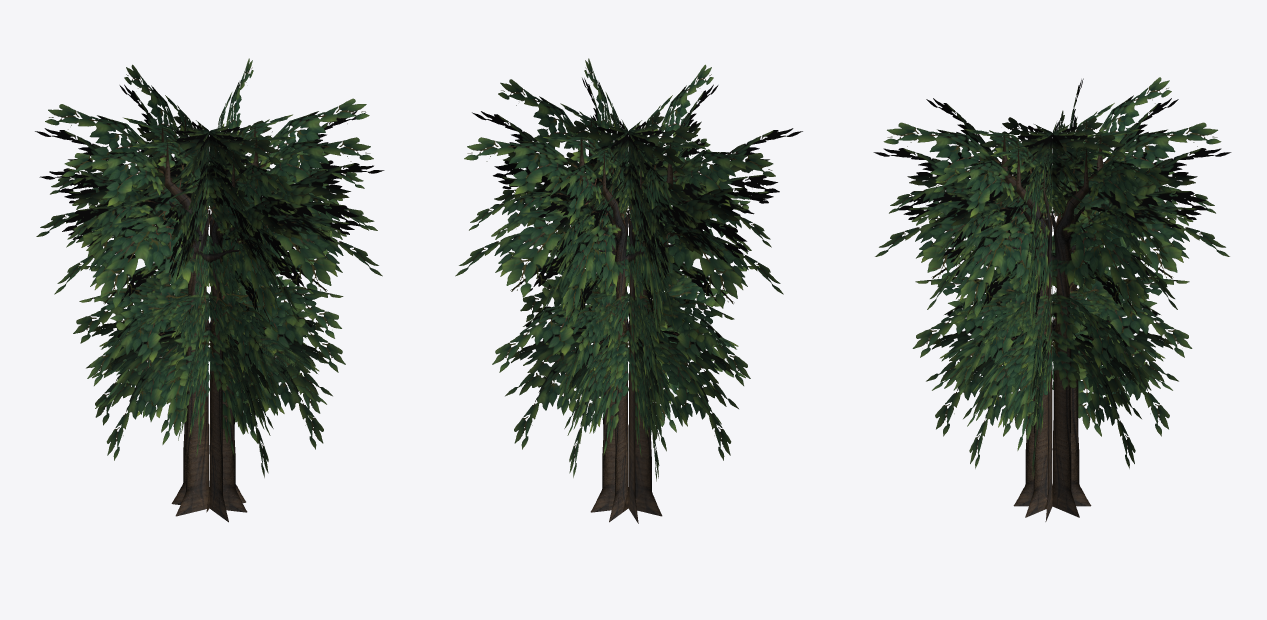
File: Flat tree 2 alt.FBX
3 views of the same model, side by side, from view 1: azimuth 30°, elevation 25°; view 2: azimuth 150°, elevation 25°; view 3: azimuth 270°, elevation 25° (orthographic).
Parts seen in each view (by area): view 1: Plane122, Plane120, Plane114, Plane119, Plane121, Plane117, Plane118, Plane113; view 2: Plane118, Plane119, Plane117, Plane113, Plane121, Plane114, Plane120, Plane122; view 3: Plane118, Plane121, Plane117, Plane120, Plane114, Plane119.
Part boxes in pixels (box(x1,y1,x2,y2)): Plane122: box(54, 127, 231, 516); Plane120: box(35, 127, 382, 512); Plane114: box(36, 104, 384, 504); Plane119: box(39, 98, 377, 503); Plane121: box(119, 84, 298, 522); Plane117: box(124, 64, 299, 485); Plane118: box(162, 58, 253, 512); Plane113: box(194, 111, 365, 510); Plane118: box(455, 126, 802, 512); Plane119: box(492, 79, 766, 510); Plane117: box(539, 84, 718, 522); Plane113: box(605, 125, 783, 516); Plane121: box(538, 64, 713, 511); Plane114: box(582, 78, 674, 523); Plane120: box(584, 58, 675, 480); Plane122: box(472, 111, 662, 515); Plane118: box(926, 98, 1177, 517); Plane121: box(875, 122, 1231, 506); Plane117: box(873, 122, 1229, 506); Plane120: box(927, 98, 1178, 517); Plane114: box(926, 77, 1177, 509); Plane119: box(1021, 78, 1083, 521).
Bounding box in the file's own units: 587 × 684 × 587.
